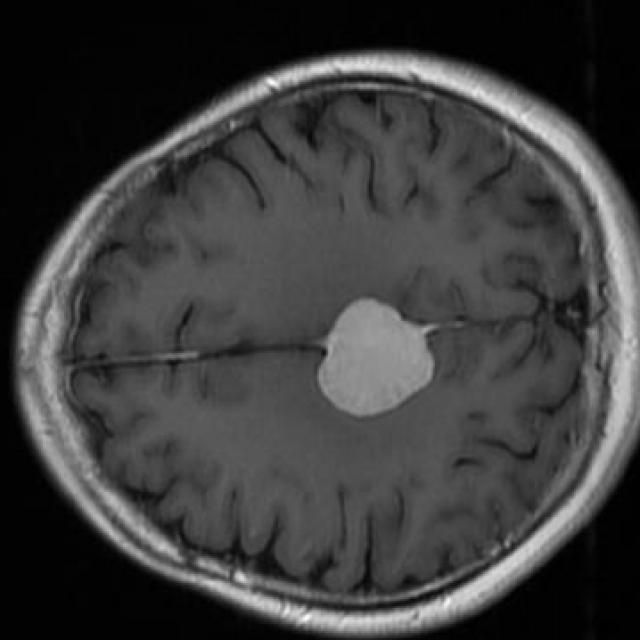meningioma: (317, 298, 435, 417)
